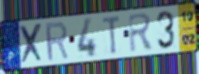3: (155, 9, 177, 51)
4: (76, 17, 99, 59)
R: (128, 12, 156, 55), (44, 20, 70, 63)
T: (101, 15, 122, 57)
X: (18, 22, 44, 66)
